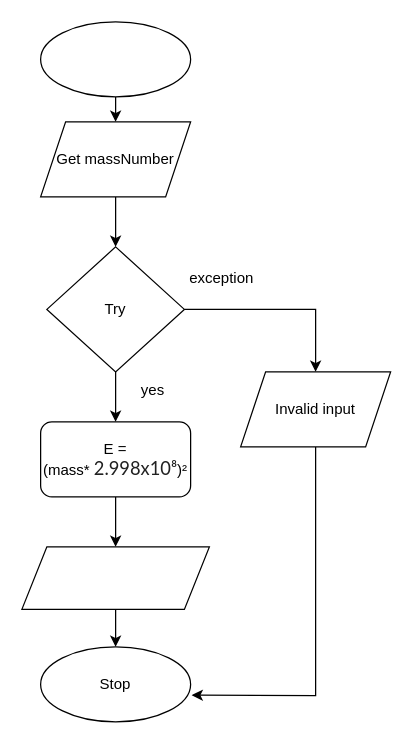
This 413x744 diagram has some shape labels left out. Each missing label, with the centre of its shape:
console.log("amount"): the point at 115,577
Start: the point at 115,59
